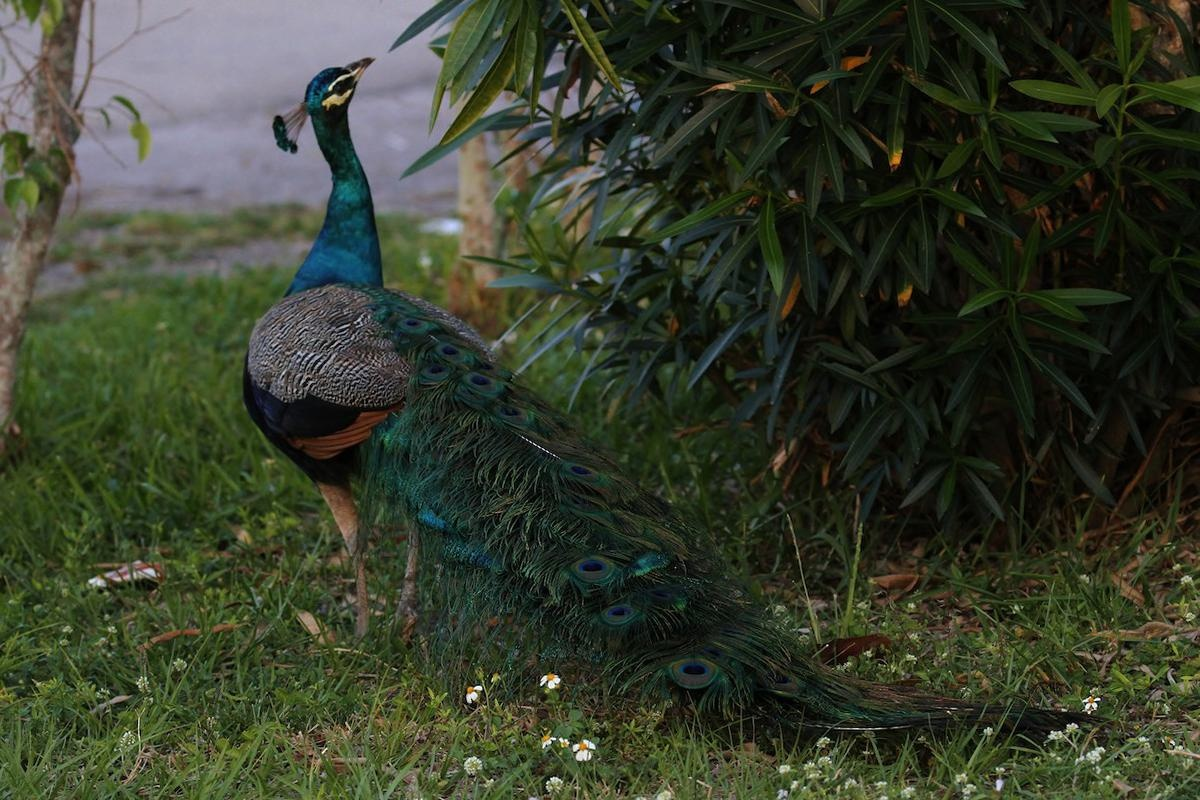peacock: (201, 38, 836, 800)
